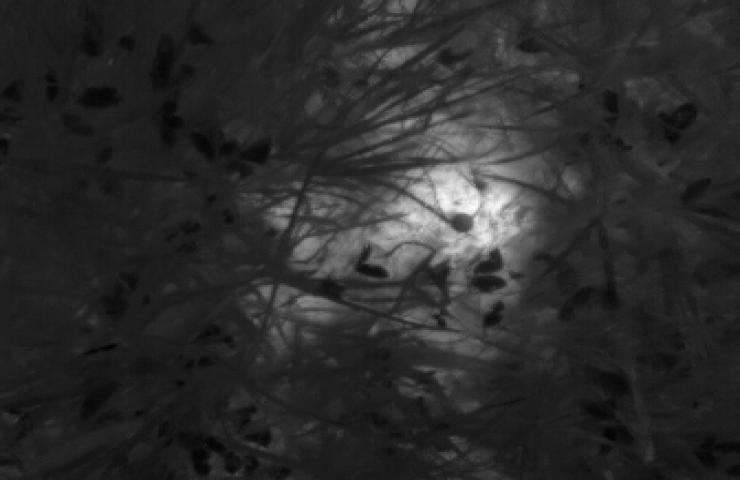landmines: (237, 25, 586, 361)
